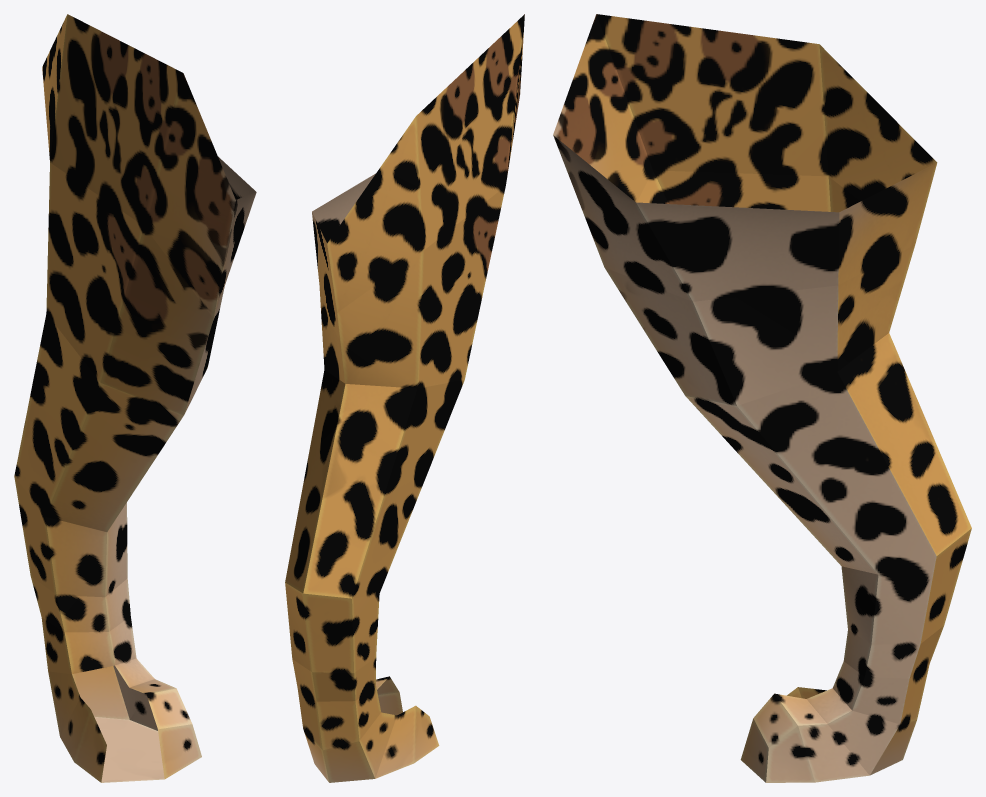
The model's file is PataTDer.fbx.
3 renders of one model, left to right at view 1: azimuth 30°, elevation 25°; view 2: azimuth 150°, elevation 25°; view 3: azimuth 270°, elevation 25°, orthographic. The views are drawn at different scales.
Parts seen in each view (by area): view 1: Jaguar.004; view 2: Jaguar.004; view 3: Jaguar.004.
Boxes of the visible parts, <box> form: Jaguar.004: <box>14,14,256,782</box>; Jaguar.004: <box>285,14,524,782</box>; Jaguar.004: <box>553,14,971,782</box>.
Bounding box in the file's own units: 76.39 × 464 × 245.
